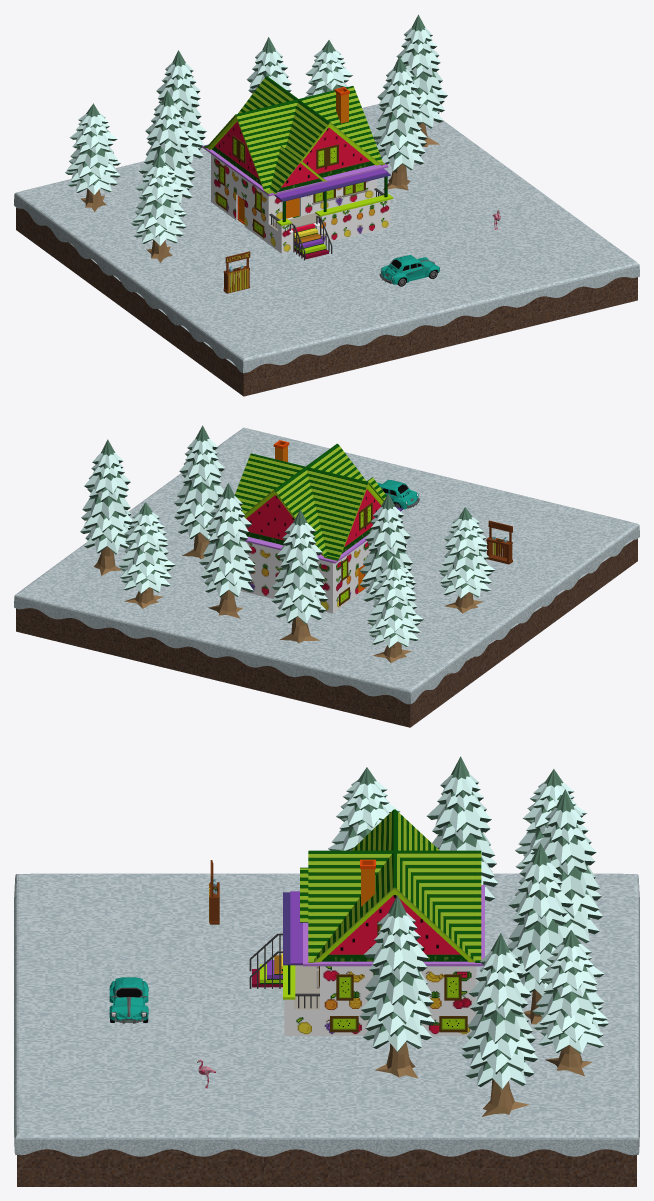
3 renders of one model, top to bottom at view 1: azimuth 30°, elevation 25°; view 2: azimuth 150°, elevation 25°; view 3: azimuth 270°, elevation 25°, orthographic. The views are drawn at different scales.
Visible parts, largest first — view 1: Cube.003, Cube.1063, VEHICLES_VOLKSWAGEN, OBJRANDOM_LEMONADE_STAND; view 2: Cube.003, Cube.1063, OBJRANDOM_LEMONADE_STAND, VEHICLES_VOLKSWAGEN; view 3: Cube.003, Cube.1063, VEHICLES_VOLKSWAGEN.
Boxes of the visible parts, x1,y1,x2,y2 form: Cube.003: (14, 14, 639, 396); Cube.1063: (202, 76, 393, 260); VEHICLES_VOLKSWAGEN: (379, 255, 440, 286); OBJRANDOM_LEMONADE_STAND: (223, 251, 250, 293); Cube.003: (14, 425, 639, 727); Cube.1063: (235, 440, 405, 613); OBJRANDOM_LEMONADE_STAND: (486, 520, 512, 564); VEHICLES_VOLKSWAGEN: (377, 479, 419, 509); Cube.003: (14, 756, 639, 1186); Cube.1063: (249, 809, 484, 1035); VEHICLES_VOLKSWAGEN: (109, 977, 148, 1023).
Bounding box in the file's own units: 4040 × 1844 × 4040.
Materials: 35 (5 with a texture image).
